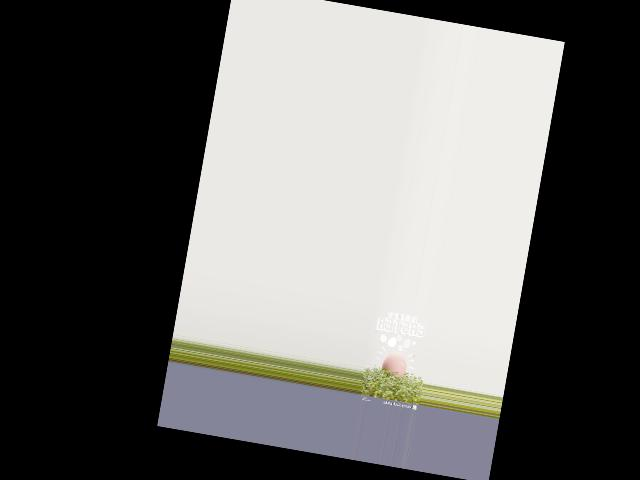egg: (379, 350, 407, 377)
